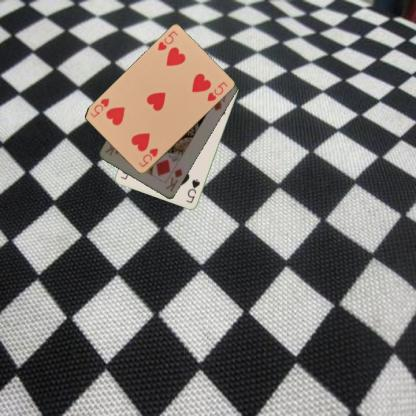5h: (155, 28, 179, 52), (136, 146, 159, 168)
5s: (183, 177, 201, 204)
Kd: (163, 166, 184, 193)
